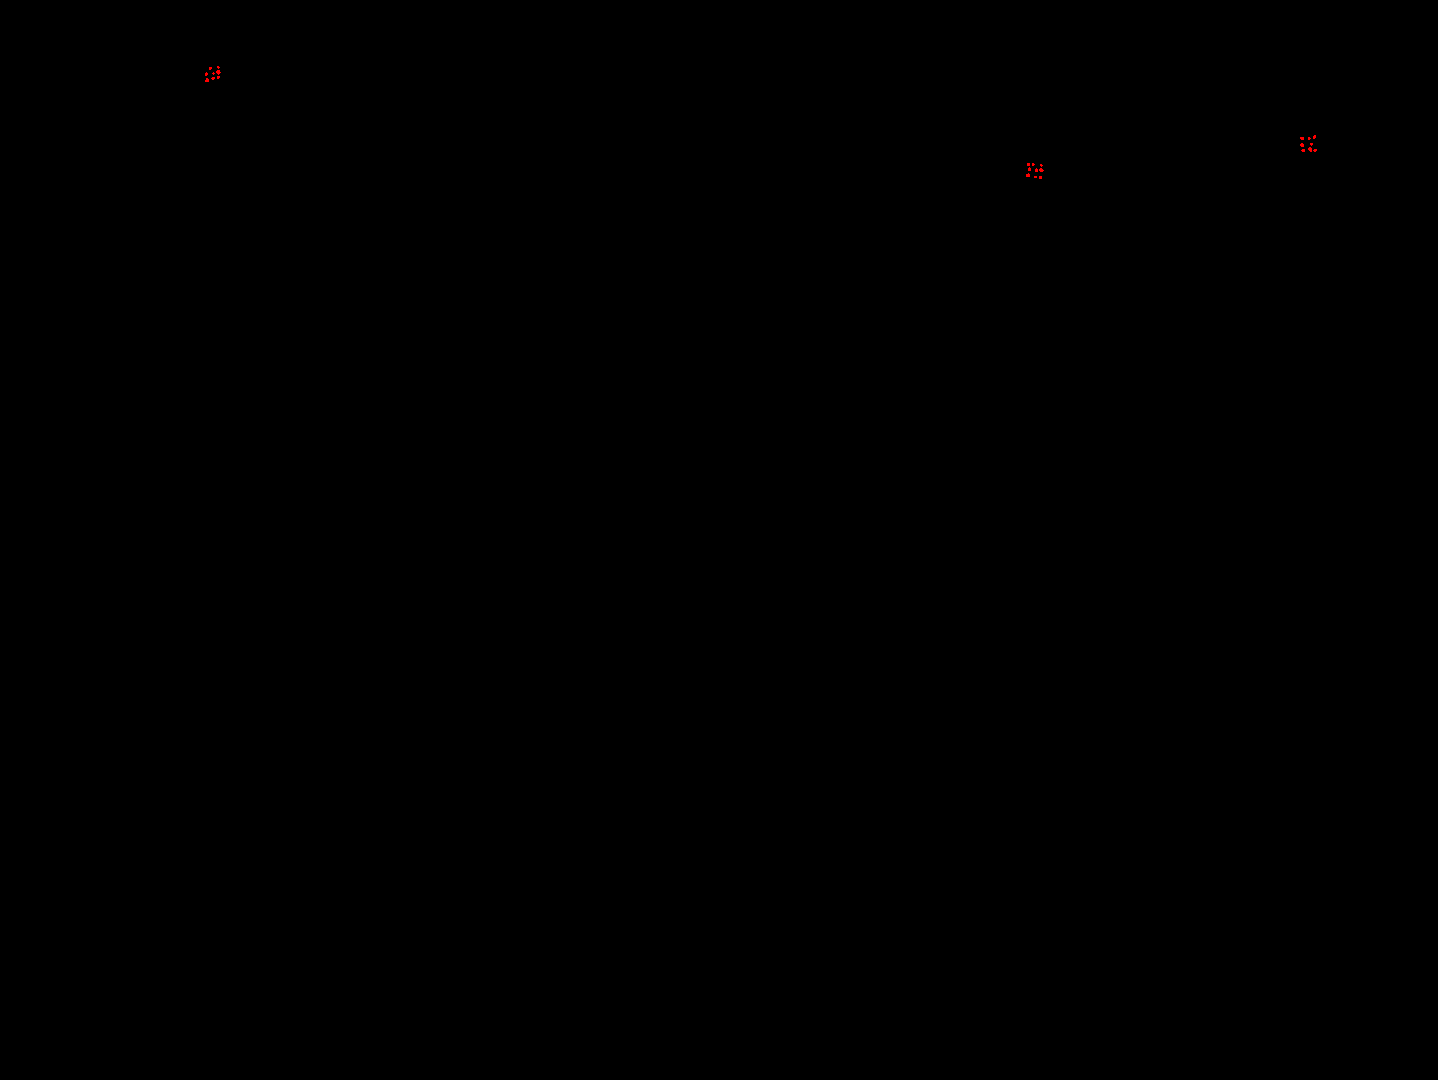Target: (215, 70, 221, 75), (1039, 168, 1044, 172), (1300, 143, 1304, 147), (1308, 147, 1312, 152), (211, 77, 215, 81), (1301, 149, 1305, 152), (1027, 167, 1031, 171), (1026, 172, 1030, 177), (217, 66, 220, 69), (209, 67, 212, 70), (212, 71, 215, 75), (217, 76, 220, 79), (205, 78, 209, 82), (1310, 143, 1313, 146), (1313, 149, 1317, 152), (1039, 176, 1042, 179), (205, 71, 208, 76), (1313, 135, 1316, 140), (1300, 137, 1304, 140), (1035, 168, 1038, 172), (1308, 137, 1311, 140), (1032, 163, 1035, 166), (1040, 164, 1043, 167), (1027, 163, 1030, 166), (1034, 176, 1037, 178)
